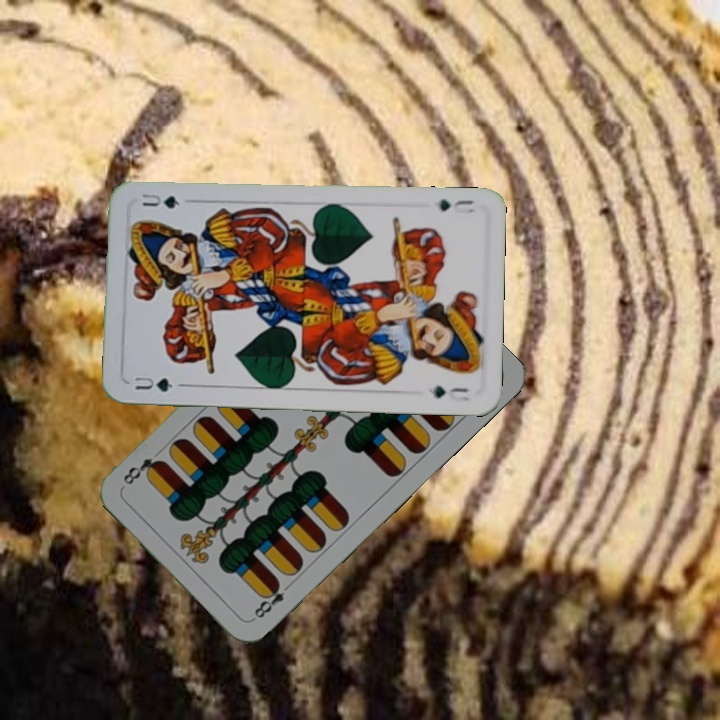E8: (248, 577, 295, 623)
GU: (131, 373, 175, 394), (434, 195, 477, 216)
